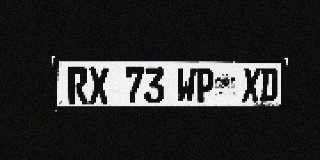3: (145, 67, 164, 103)
7: (124, 67, 144, 103)
D: (260, 68, 278, 102)
P: (196, 68, 214, 103)
R: (67, 67, 89, 104)
W: (177, 67, 196, 103)
X: (88, 67, 109, 104), (242, 68, 261, 102)
